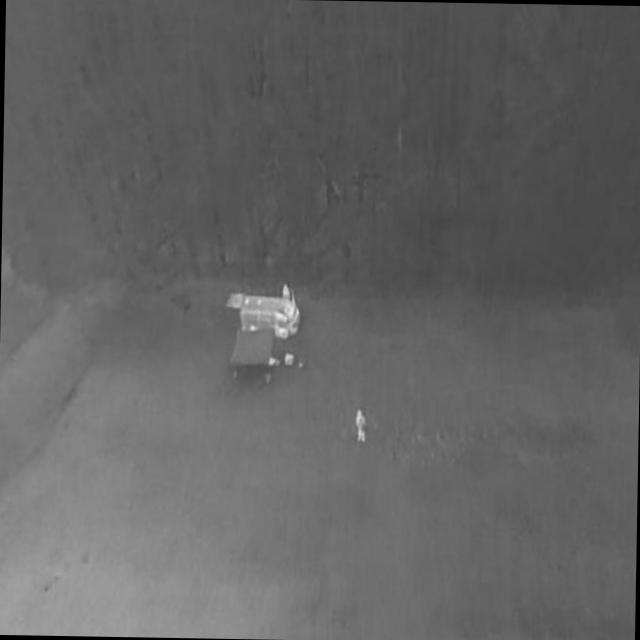person: (355, 409, 366, 445), (282, 283, 290, 302)
